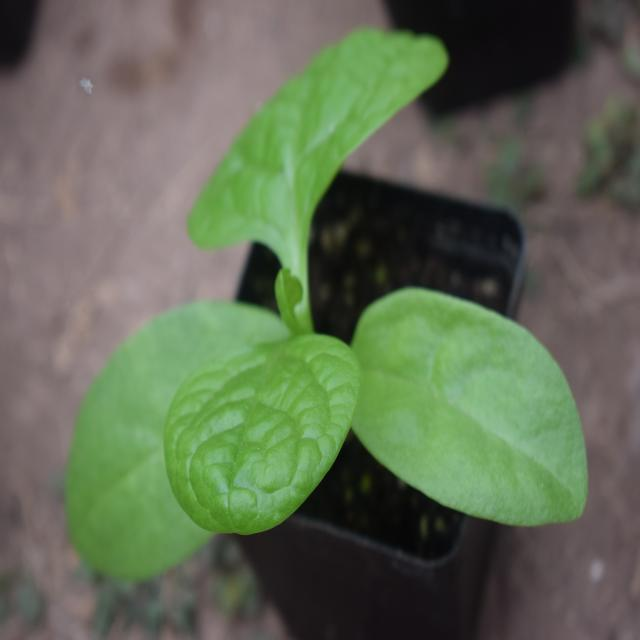Ceylon spinach: (63, 47, 597, 577)
